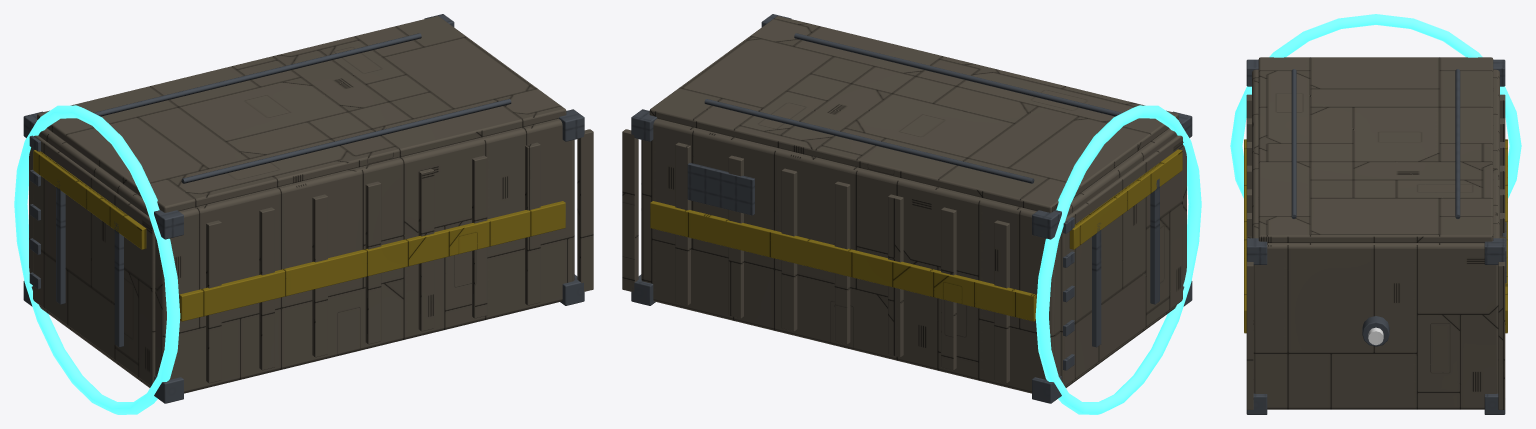
The model's file is pod_cargo_container.glb.
3 views of the same model, side by side, from view 1: azimuth 30°, elevation 25°; view 2: azimuth 150°, elevation 25°; view 3: azimuth 270°, elevation 25° (orthographic). The views are drawn at different scales.
Visible parts, largest first — view 1: LOD0_MOTION_POD_SHELL_Hull, LOD0_MOTION_POD_SHELL_Livery, LOD0_MOTION_POD_SHELL_Mechanical, LOD0_MOTION_POD_PING_Lights_Cyan; view 2: LOD0_MOTION_POD_SHELL_Hull, LOD0_MOTION_POD_SHELL_Livery, LOD0_MOTION_POD_SHELL_Mechanical, LOD0_MOTION_POD_PING_Lights_Cyan; view 3: LOD0_MOTION_POD_SHELL_Hull, LOD0_MOTION_POD_PING_Lights_Cyan, LOD0_MOTION_POD_SHELL_Mechanical, LOD0_MOTION_POD_SHELL_Livery.
Boxes of the visible parts, bbox=[...] form: LOD0_MOTION_POD_SHELL_Hull: bbox=[29, 16, 593, 393]; LOD0_MOTION_POD_SHELL_Livery: bbox=[33, 150, 565, 321]; LOD0_MOTION_POD_SHELL_Mechanical: bbox=[23, 14, 584, 403]; LOD0_MOTION_POD_PING_Lights_Cyan: bbox=[14, 105, 180, 414]; LOD0_MOTION_POD_SHELL_Hull: bbox=[622, 16, 1186, 393]; LOD0_MOTION_POD_SHELL_Livery: bbox=[650, 149, 1182, 321]; LOD0_MOTION_POD_SHELL_Mechanical: bbox=[631, 14, 1192, 403]; LOD0_MOTION_POD_PING_Lights_Cyan: bbox=[1035, 105, 1201, 414]; LOD0_MOTION_POD_SHELL_Hull: bbox=[1246, 57, 1505, 409]; LOD0_MOTION_POD_PING_Lights_Cyan: bbox=[1230, 14, 1521, 198]; LOD0_MOTION_POD_SHELL_Mechanical: bbox=[1246, 59, 1506, 414]; LOD0_MOTION_POD_SHELL_Livery: bbox=[1244, 139, 1507, 333].
Size of what is drawn, in the model's own units: 5.42 by 3.38 by 3.38.
Materials: 5 (4 with a texture image).
